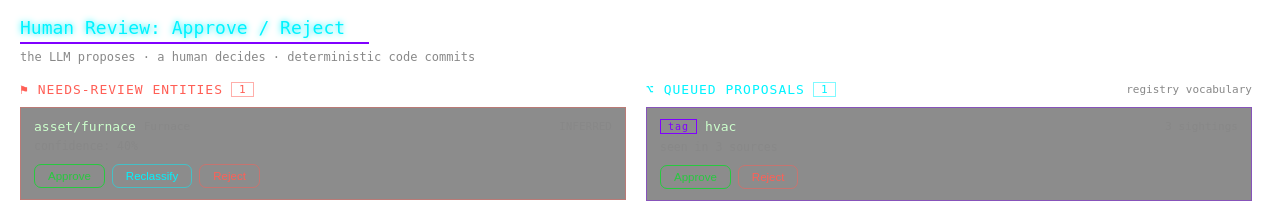
Review Screen › disables approve/reject while a mutation is pending (no double-submit)
Expected: the text "hvac" is shown, x1=705 y1=119 x2=736 y2=134
# Entity card renders in the left column, proposal in the right.
What coordinates should you click on to do the following:
click the button "Approve" below "seen in 3 sources"
I would click on:
 (695, 177)
Its box is x1=660 y1=165 x2=731 y2=189.
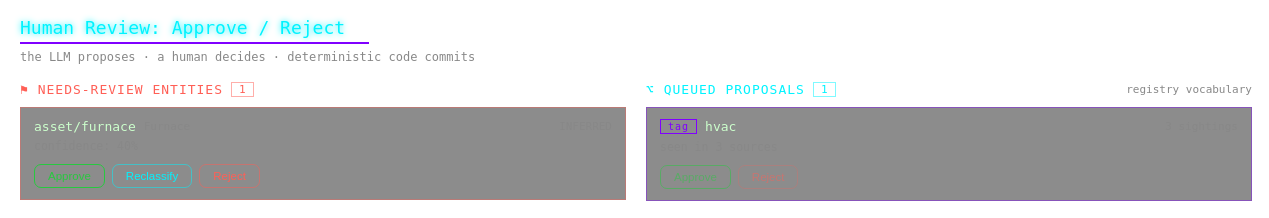
Expected: the button "Approve" below "seen in 3 sources" is disabled, x1=660 y1=165 x2=731 y2=189
Expected: the button "Reject" below "seen in 3 sources" is disabled, x1=738 y1=165 x2=798 y2=189
